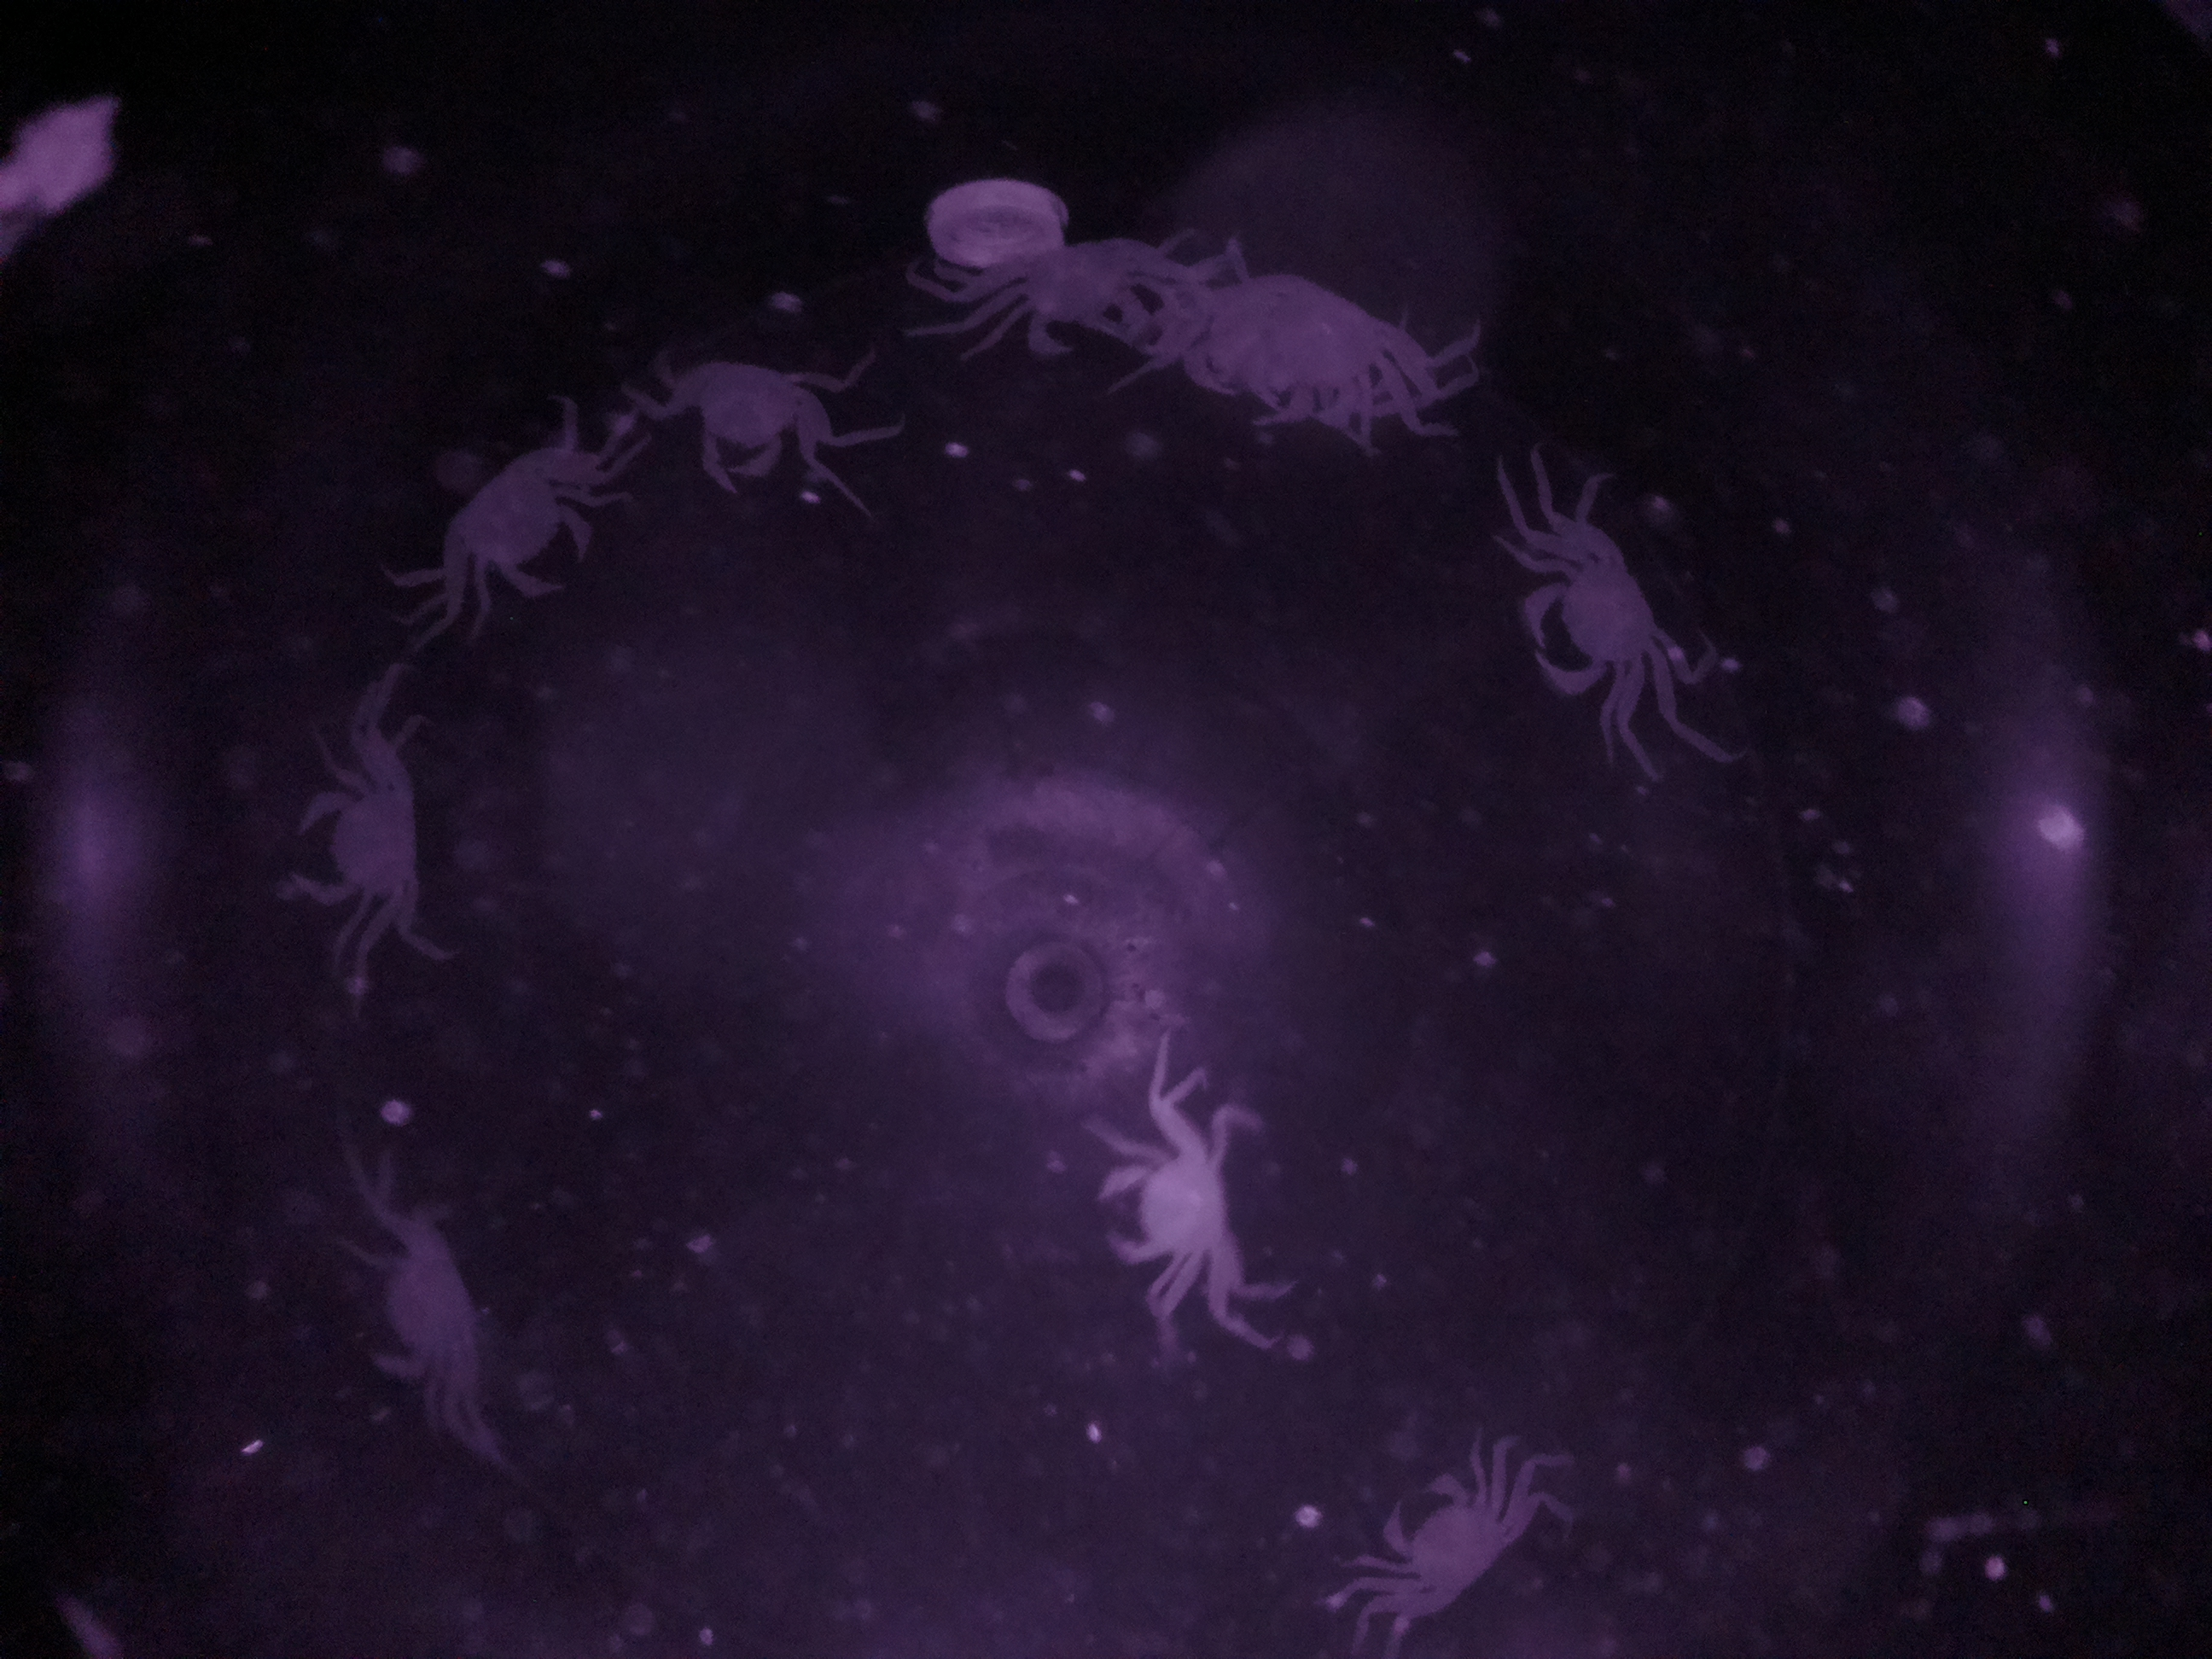Crab: (1512, 497, 1688, 742), (432, 418, 620, 613), (1346, 1439, 1538, 1628), (275, 728, 442, 939), (669, 326, 846, 514)
